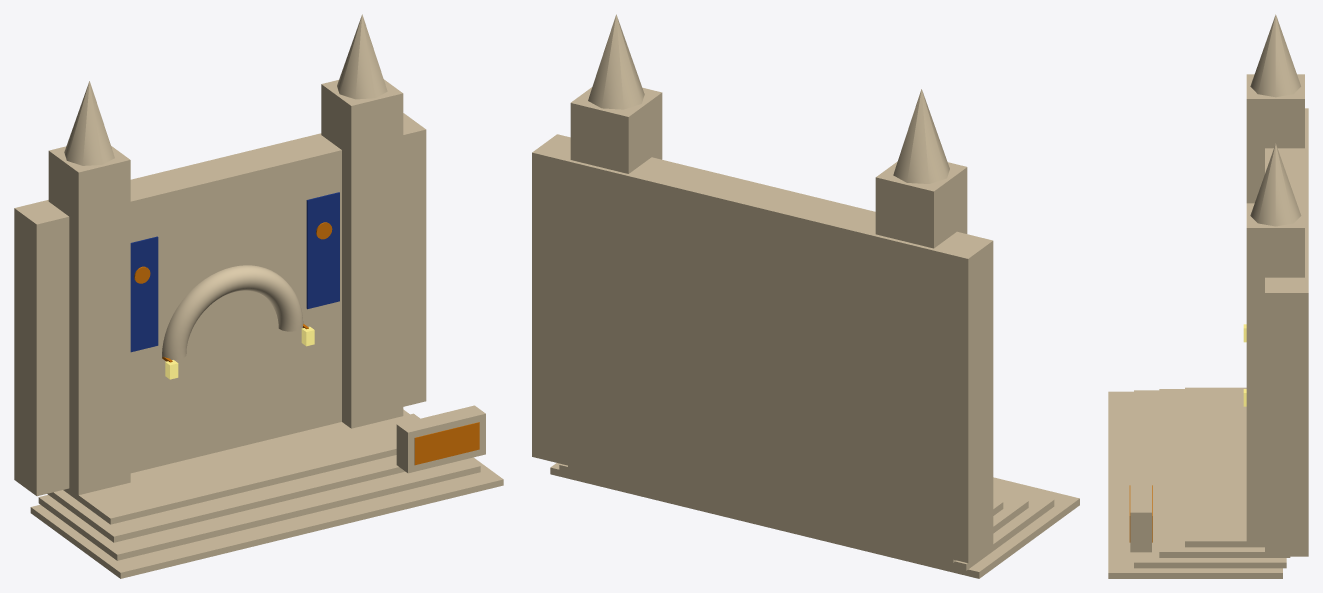
File: university-entrance.glb
3 renders of one model, left to right at view 1: azimuth 30°, elevation 25°; view 2: azimuth 150°, elevation 25°; view 3: azimuth 270°, elevation 25°, orthographic. The views are drawn at different scales.
Size of the model in its own units: 12 by 12.42 by 5.5.
